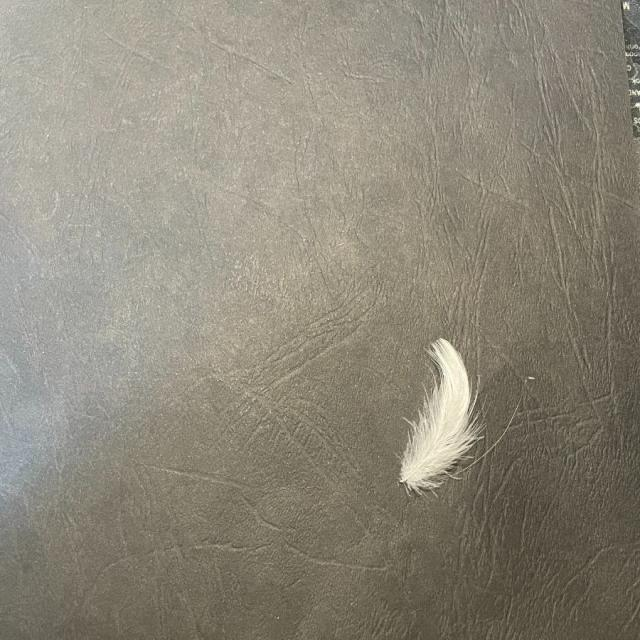feather: (396, 334, 479, 496)
